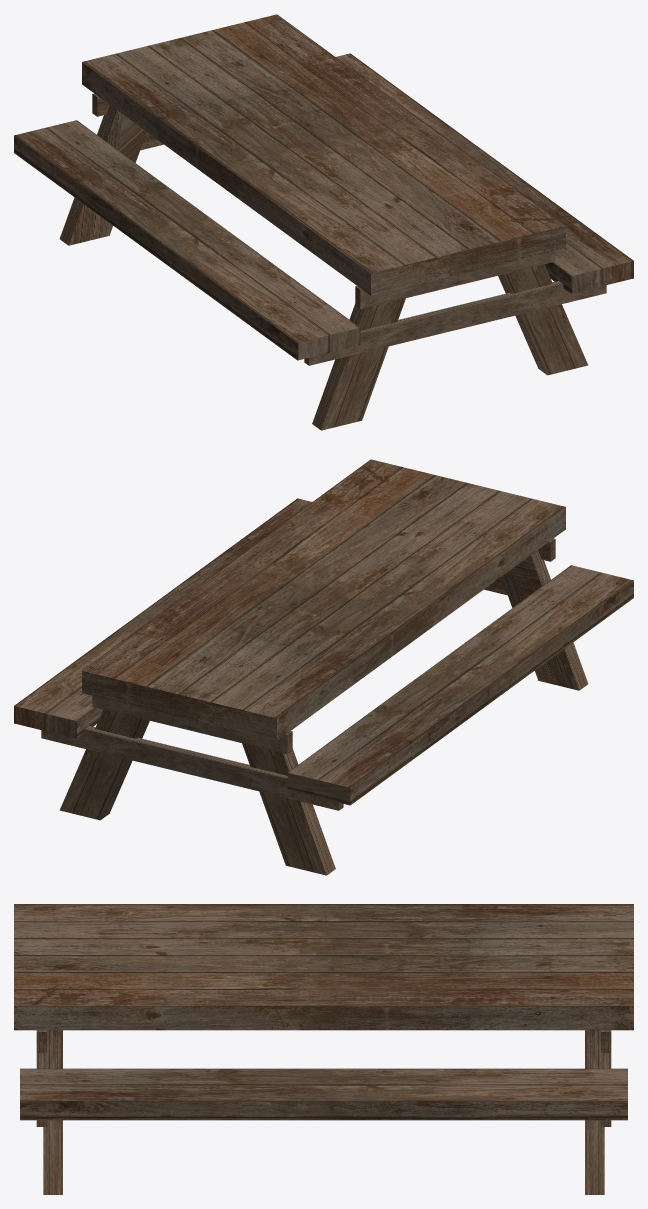
File: picnicbench.gltf
3 views of the same model, one above another, from view 1: azimuth 30°, elevation 25°; view 2: azimuth 150°, elevation 25°; view 3: azimuth 270°, elevation 25° (orthographic). The views are drawn at different scales.
Visible parts, largest first — view 1: Piknik Bench; view 2: Piknik Bench; view 3: Piknik Bench.
Part boxes in pixels (x1,y1,x2,y2): Piknik Bench: (14, 14, 633, 430); Piknik Bench: (14, 459, 633, 875); Piknik Bench: (14, 904, 633, 1194).
Bounding box in the file's own units: 2.56 × 1.15 × 3.81.
Materials: 1 (1 with a texture image).
